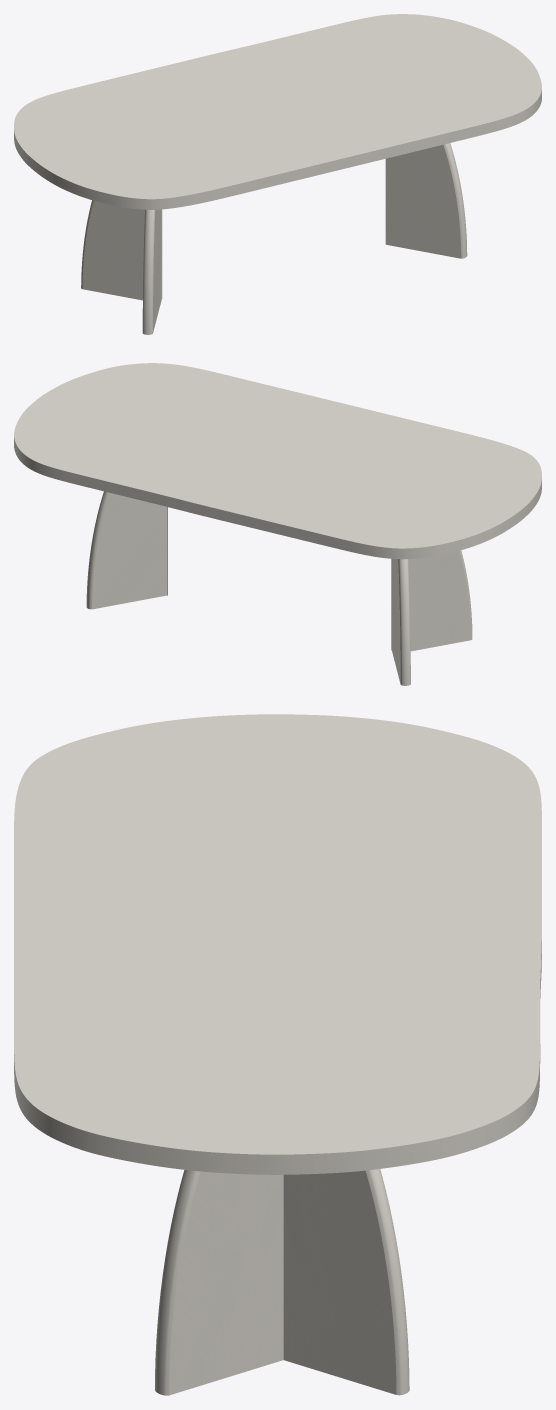
Rendered from pale_oval_standard_newtable2.glb.
3 views of the same model, one above another, from view 1: azimuth 30°, elevation 25°; view 2: azimuth 150°, elevation 25°; view 3: azimuth 270°, elevation 25° (orthographic). The views are drawn at different scales.
Parts seen in each view (by area): view 1: standard_oval, newtable2_singleright2, newtable2_singleleft1, newtable2_singleright1; view 2: standard_oval, newtable2_singleleft2, newtable2_singleright1, newtable2_singleleft1; view 3: standard_oval, newtable2_singleright2, newtable2_singleleft2.
Part boxes in pixels (x1,y1,x2,y2): standard_oval: (14, 14, 541, 209); newtable2_singleright2: (385, 143, 467, 258); newtable2_singleleft1: (81, 200, 162, 300); newtable2_singleright1: (142, 209, 161, 334); standard_oval: (14, 363, 541, 559); newtable2_singleleft2: (86, 491, 167, 609); newtable2_singleright1: (391, 550, 472, 651); newtable2_singleleft1: (391, 559, 410, 685); standard_oval: (14, 714, 541, 1174); newtable2_singleright2: (155, 1170, 283, 1395); newtable2_singleleft2: (283, 1169, 409, 1395).
Size of the model in its own units: 7.5 by 2.49 by 3.8.
Materials: 1 (1 with a texture image).
